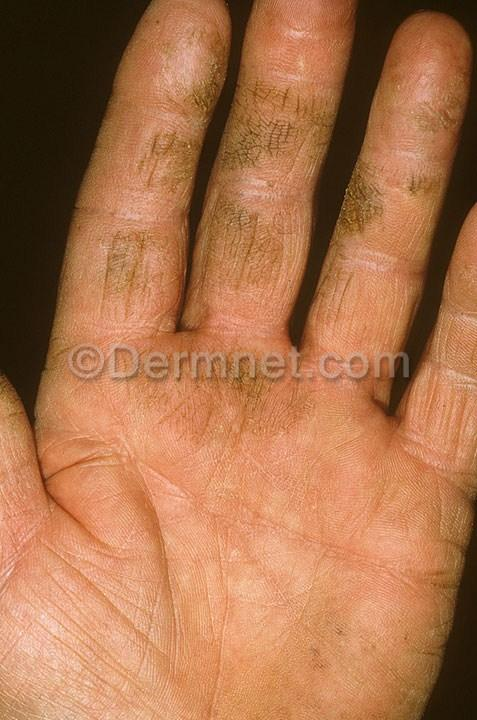Eczema: (73, 217, 191, 311), (236, 65, 337, 172), (336, 150, 412, 279), (203, 196, 301, 295), (156, 0, 231, 117), (123, 115, 210, 209), (216, 372, 306, 451), (413, 46, 477, 144), (378, 49, 416, 127), (415, 163, 447, 220)
